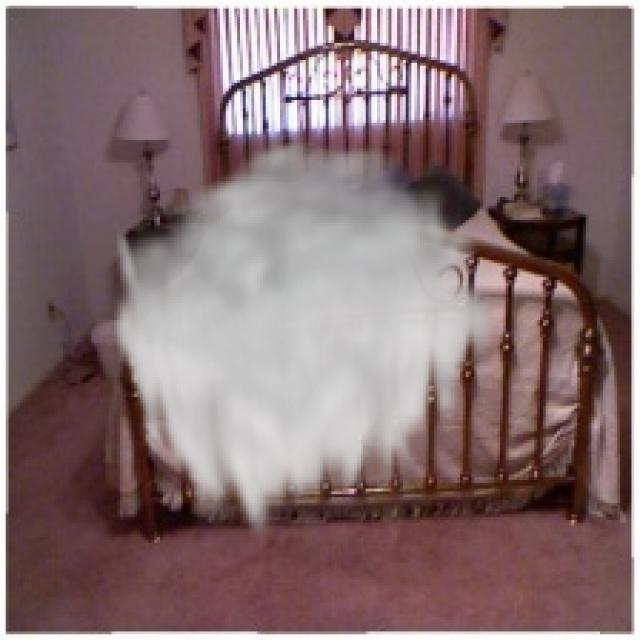smoke: (109, 132, 500, 552)
